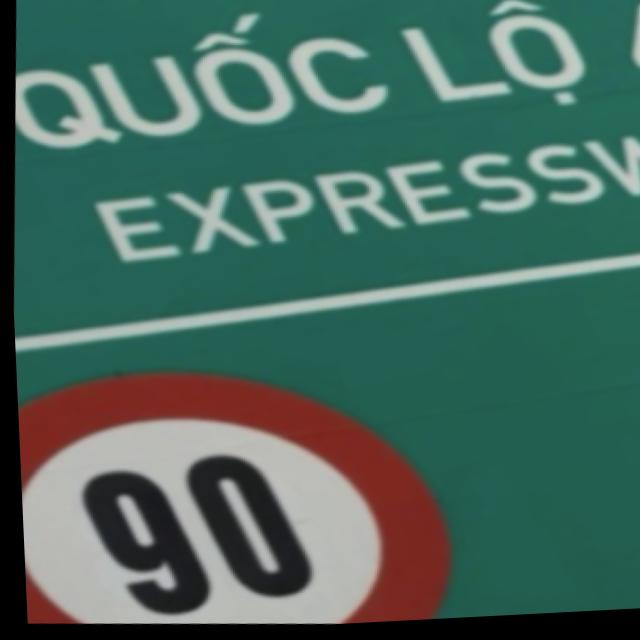Speed Limit -90-: (13, 350, 453, 640)
